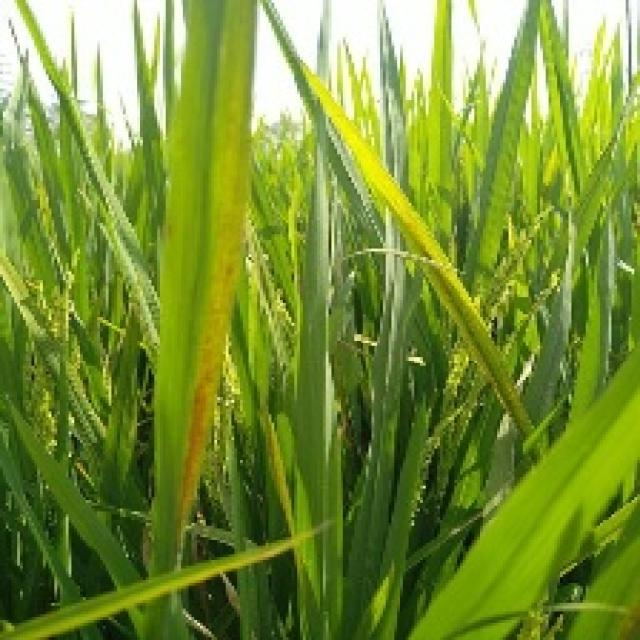Unhealthy: (175, 166, 241, 566)
